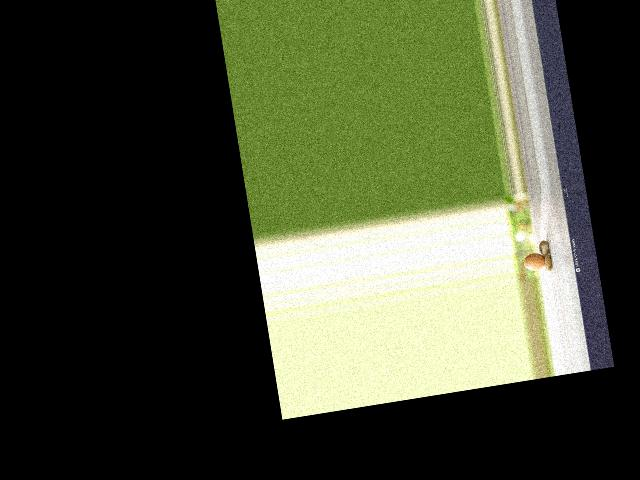egg: (523, 251, 546, 272)
